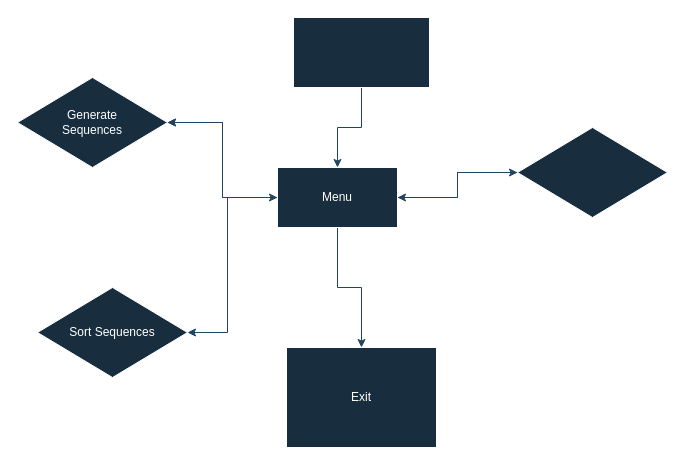
Some shapes in this 685 by 465 pixel diagram are drawn without their labels. The centre of each missing label's shape, as x and y in pixels:
"Display Sequence Type" goes at point 592,172.
"Start" goes at point 361,52.
